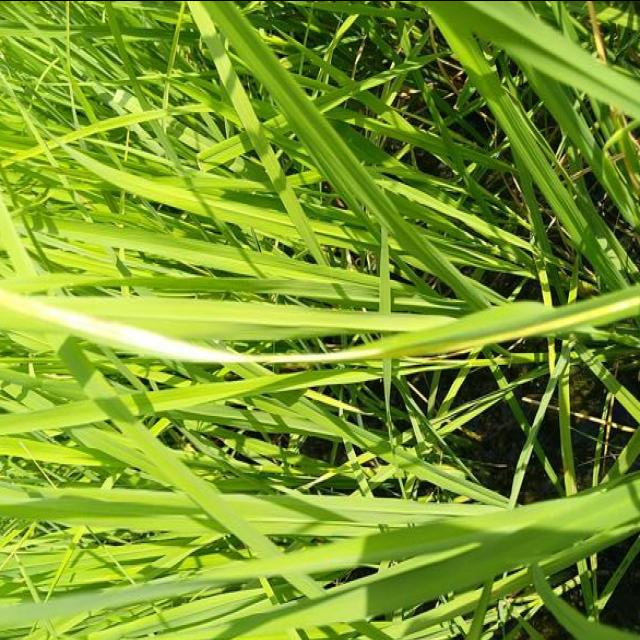Leaf Blight: (0, 288, 636, 361)
